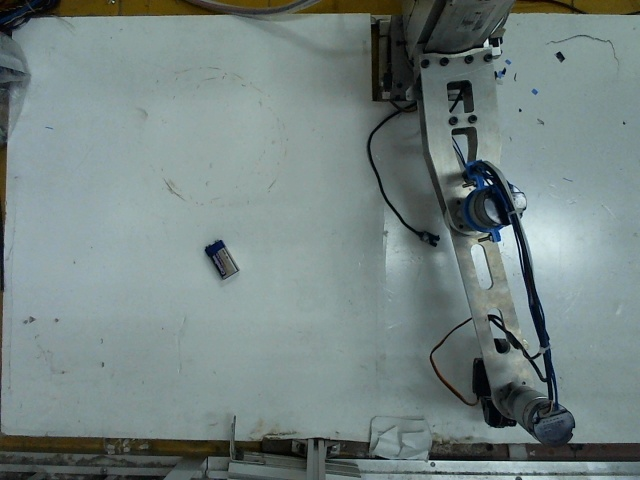battery: (202, 240, 238, 276)
